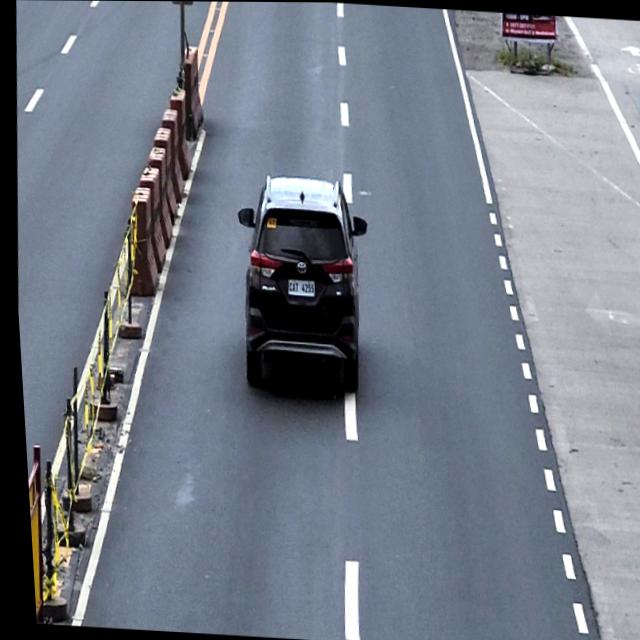Car: (223, 170, 375, 394)
License-Plate: (282, 276, 313, 297)
